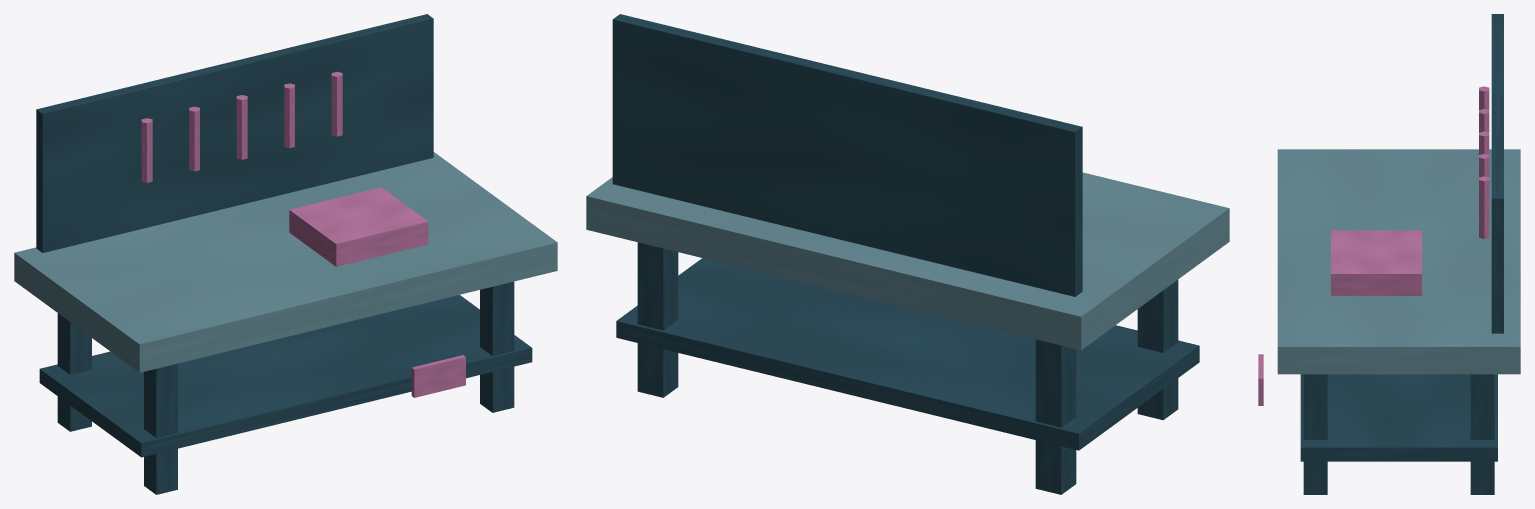
The model's file is atlas100-s069-a06.lod1.glb.
3 renders of one model, left to right at view 1: azimuth 30°, elevation 25°; view 2: azimuth 150°, elevation 25°; view 3: azimuth 270°, elevation 25°, orthographic. The views are drawn at different scales.
Visible parts, largest first — view 1: atlas100-s069-a06:part-004, atlas100-s069-a06:part-006, atlas100-s069-a06:part-005, atlas100-s069-a06:part-012, atlas100-s069-a06:part-003, atlas100-s069-a06:part-001, atlas100-s069-a06:part-000, atlas100-s069-a06:part-013, atlas100-s069-a06:part-007, atlas100-s069-a06:part-009, atlas100-s069-a06:part-011, atlas100-s069-a06:part-008 (+1 smaller); view 2: atlas100-s069-a06:part-006, atlas100-s069-a06:part-005, atlas100-s069-a06:part-004, atlas100-s069-a06:part-002, atlas100-s069-a06:part-000, atlas100-s069-a06:part-001; view 3: atlas100-s069-a06:part-004, atlas100-s069-a06:part-005, atlas100-s069-a06:part-012, atlas100-s069-a06:part-006, atlas100-s069-a06:part-002, atlas100-s069-a06:part-003, atlas100-s069-a06:part-011, atlas100-s069-a06:part-013.
Part boxes in pixels (box(x1,y1,x2,y2)): atlas100-s069-a06:part-004: box(14, 152, 557, 372); atlas100-s069-a06:part-006: box(36, 14, 433, 252); atlas100-s069-a06:part-005: box(39, 295, 532, 457); atlas100-s069-a06:part-012: box(289, 187, 428, 266); atlas100-s069-a06:part-003: box(480, 281, 514, 412); atlas100-s069-a06:part-001: box(144, 363, 177, 494); atlas100-s069-a06:part-000: box(57, 313, 91, 431); atlas100-s069-a06:part-013: box(411, 355, 465, 397); atlas100-s069-a06:part-007: box(141, 118, 152, 182); atlas100-s069-a06:part-009: box(236, 95, 247, 159); atlas100-s069-a06:part-011: box(331, 71, 342, 136); atlas100-s069-a06:part-008: box(189, 106, 199, 171); atlas100-s069-a06:part-006: box(612, 14, 1082, 296); atlas100-s069-a06:part-005: box(616, 258, 1199, 450); atlas100-s069-a06:part-004: box(586, 172, 1229, 350); atlas100-s069-a06:part-002: box(637, 242, 678, 397); atlas100-s069-a06:part-000: box(1035, 339, 1076, 494); atlas100-s069-a06:part-001: box(1137, 279, 1178, 420); atlas100-s069-a06:part-004: box(1277, 149, 1520, 374); atlas100-s069-a06:part-005: box(1300, 374, 1497, 461); atlas100-s069-a06:part-012: box(1331, 230, 1421, 295); atlas100-s069-a06:part-006: box(1491, 14, 1503, 333); atlas100-s069-a06:part-002: box(1470, 374, 1494, 494); atlas100-s069-a06:part-003: box(1303, 374, 1327, 494); atlas100-s069-a06:part-011: box(1479, 176, 1489, 238); atlas100-s069-a06:part-013: box(1258, 354, 1263, 405).
Bounding box in the file's own units: 3.08 × 2.21 × 1.73.
3 materials, 3 textured.
